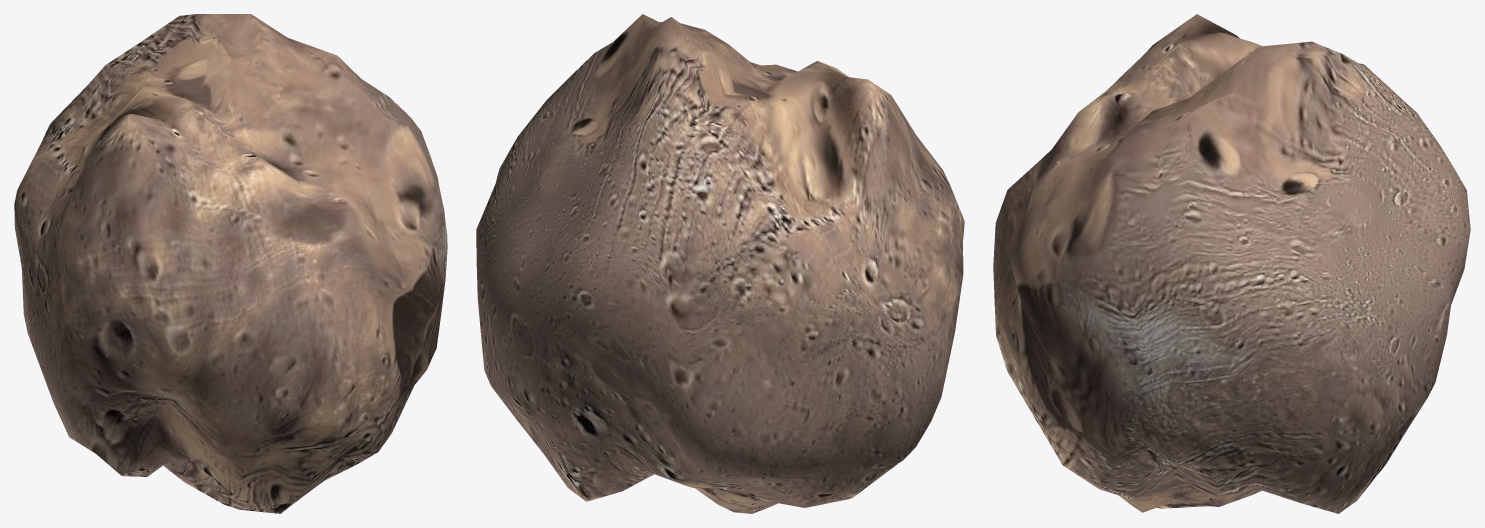
Rendered from Asteroid-5.FBX.
3 renders of one model, left to right at view 1: azimuth 30°, elevation 25°; view 2: azimuth 150°, elevation 25°; view 3: azimuth 270°, elevation 25°, orthographic. The views are drawn at different scales.
Visible parts, largest first — view 1: GeoSphere001; view 2: GeoSphere001; view 3: GeoSphere001.
Boxes of the visible parts, x1,y1,x2,y2 form: GeoSphere001: (14, 14, 447, 513); GeoSphere001: (476, 14, 964, 513); GeoSphere001: (993, 14, 1470, 513).
Size of the model in its own units: 3.27 by 3.73 by 3.36.
